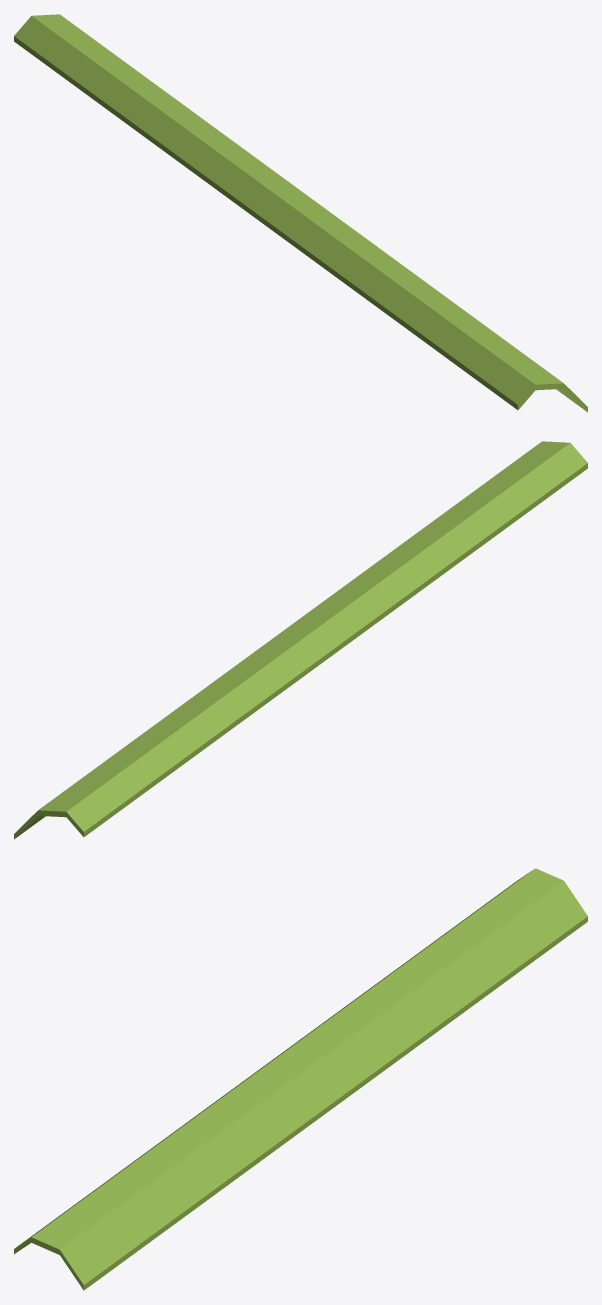
3 renders of one model, top to bottom at view 1: azimuth 30°, elevation 25°; view 2: azimuth 150°, elevation 25°; view 3: azimuth 330°, elevation 25°, orthographic.
Visible parts, largest first — view 1: 河流_左岸折纸.001; view 2: 河流_左岸折纸.001; view 3: 河流_左岸折纸.001.
Part boxes in pixels (x1,y1,x2,y2): 河流_左岸折纸.001: (14,14,587,412); 河流_左岸折纸.001: (14,441,587,839); 河流_左岸折纸.001: (14,868,587,1290).
Size of the model in its own units: 0.16 by 0.089 by 2.
